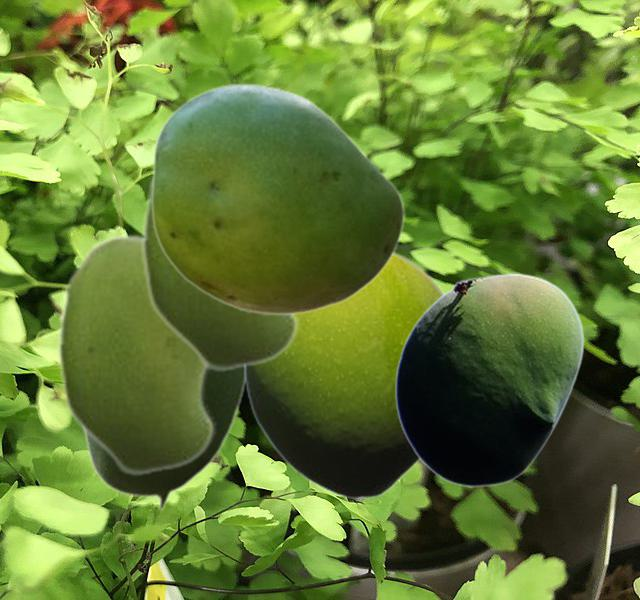green_mango: (150, 82, 404, 315), (242, 251, 446, 499), (394, 272, 584, 486), (57, 233, 218, 476), (141, 175, 302, 372), (80, 369, 244, 510)
